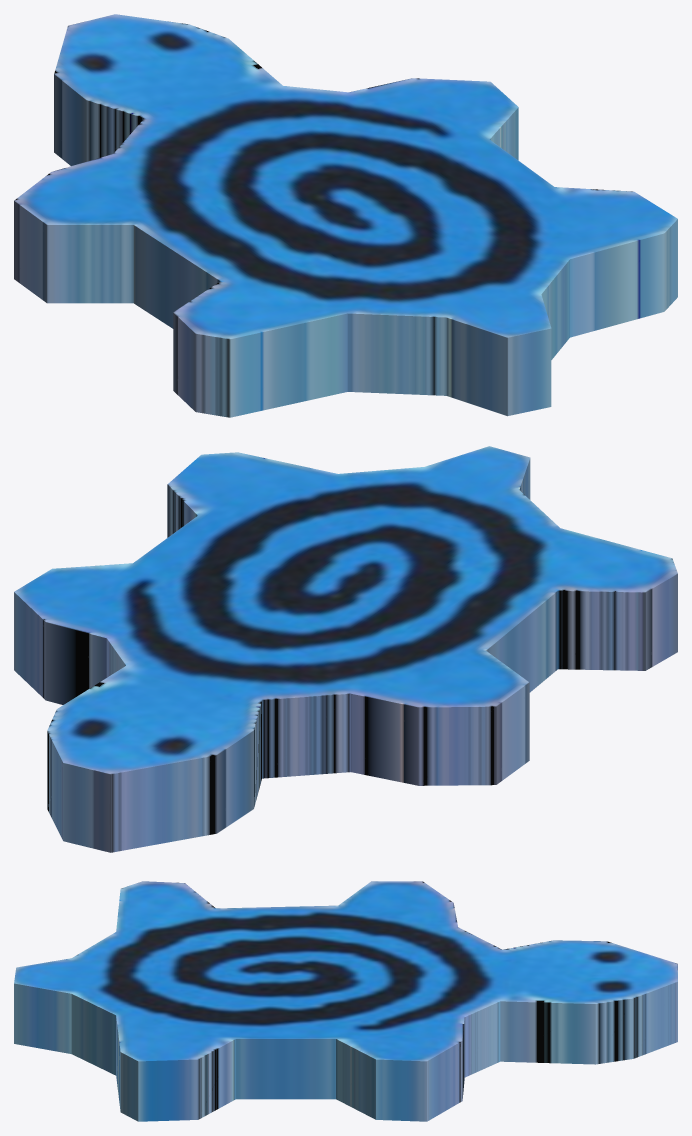
File: zolwNiebieski.gltf
3 views of the same model, one above another, from view 1: azimuth 30°, elevation 25°; view 2: azimuth 150°, elevation 25°; view 3: azimuth 270°, elevation 25° (orthographic). The views are drawn at different scales.
Size of the model in its own units: 4.88 by 0.762 by 7.59.
Materials: 1 (1 with a texture image).
